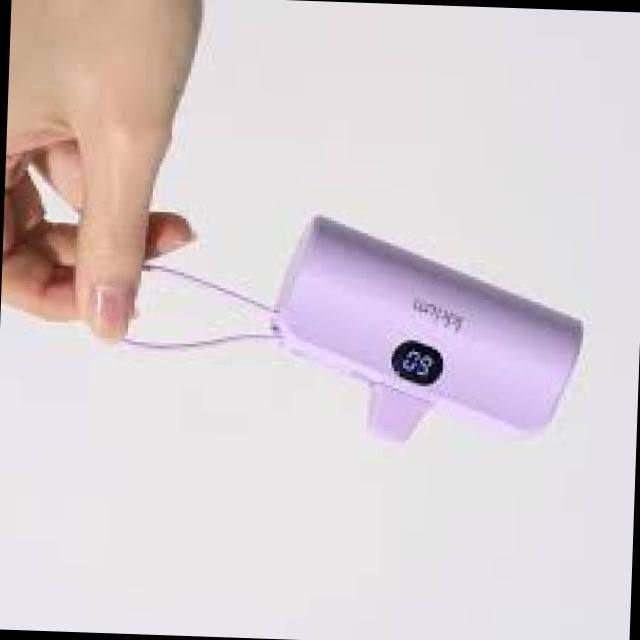portable-charger: (260, 214, 586, 443)
